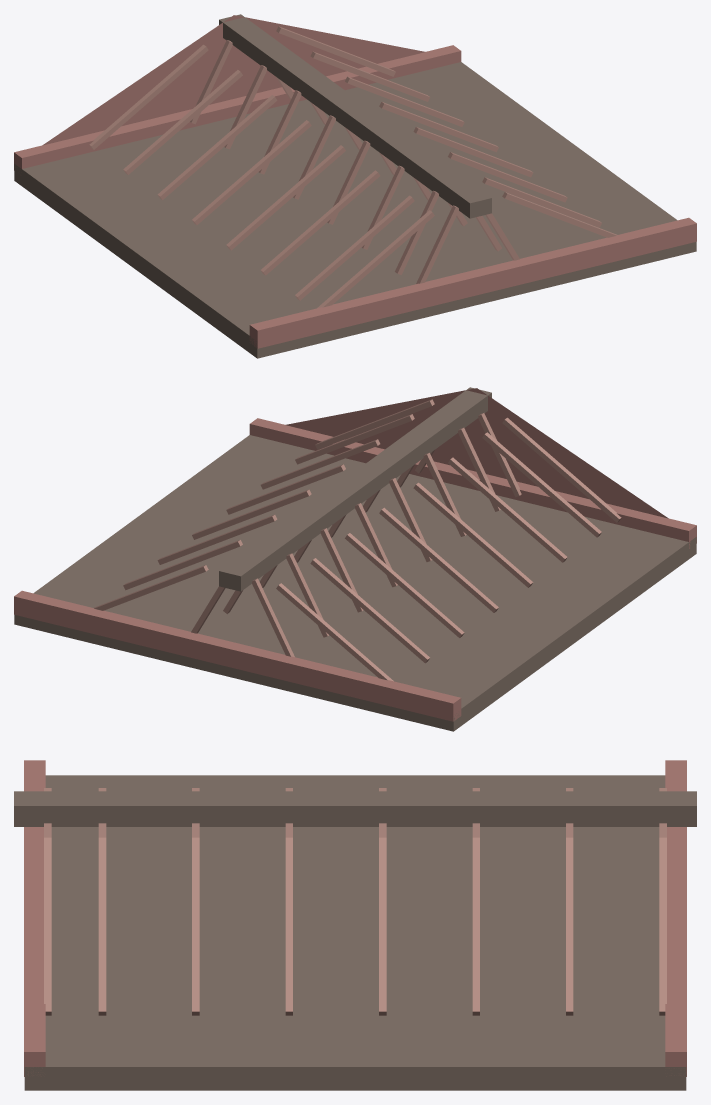
File: telhado_vermelho_4m.glb
3 views of the same model, one above another, from view 1: azimuth 30°, elevation 25°; view 2: azimuth 150°, elevation 25°; view 3: azimuth 270°, elevation 25° (orthographic). The views are drawn at different scales.
Parts seen in each view (by area): view 1: telhado_vermelho_4m_part_001, telhado_vermelho_4m_part_036, telhado_vermelho_4m_part_000, telhado_vermelho_4m_part_034, telhado_vermelho_4m_part_035, telhado_vermelho_4m_part_010, telhado_vermelho_4m_part_006, telhado_vermelho_4m_part_018, telhado_vermelho_4m_part_022, telhado_vermelho_4m_part_014, telhado_vermelho_4m_part_026, telhado_vermelho_4m_part_002 (+17 smaller); view 2: telhado_vermelho_4m_part_001, telhado_vermelho_4m_part_035, telhado_vermelho_4m_part_000, telhado_vermelho_4m_part_034, telhado_vermelho_4m_part_036, telhado_vermelho_4m_part_006, telhado_vermelho_4m_part_026, telhado_vermelho_4m_part_018, telhado_vermelho_4m_part_022, telhado_vermelho_4m_part_014, telhado_vermelho_4m_part_010, telhado_vermelho_4m_part_030 (+17 smaller); view 3: telhado_vermelho_4m_part_001, telhado_vermelho_4m_part_034, telhado_vermelho_4m_part_036, telhado_vermelho_4m_part_035, telhado_vermelho_4m_part_029, telhado_vermelho_4m_part_017, telhado_vermelho_4m_part_025, telhado_vermelho_4m_part_009, telhado_vermelho_4m_part_013, telhado_vermelho_4m_part_021, telhado_vermelho_4m_part_005, telhado_vermelho_4m_part_033.
Boxes of the visible parts, box(x1,y1,x2,y2) form: telhado_vermelho_4m_part_001: box(14, 62, 696, 358); telhado_vermelho_4m_part_036: box(249, 217, 696, 348); telhado_vermelho_4m_part_000: box(42, 15, 424, 145); telhado_vermelho_4m_part_034: box(219, 14, 491, 218); telhado_vermelho_4m_part_035: box(14, 45, 461, 175); telhado_vermelho_4m_part_010: box(157, 95, 277, 200); telhado_vermelho_4m_part_006: box(123, 70, 242, 174); telhado_vermelho_4m_part_018: box(226, 145, 345, 250); telhado_vermelho_4m_part_022: box(260, 170, 380, 275); telhado_vermelho_4m_part_014: box(192, 120, 311, 224); telhado_vermelho_4m_part_026: box(295, 195, 414, 300); telhado_vermelho_4m_part_002: box(89, 44, 208, 149); telhado_vermelho_4m_part_001: box(14, 435, 696, 731); telhado_vermelho_4m_part_035: box(14, 590, 461, 721); telhado_vermelho_4m_part_000: box(286, 388, 668, 518); telhado_vermelho_4m_part_034: box(219, 387, 491, 591); telhado_vermelho_4m_part_036: box(249, 418, 696, 548); telhado_vermelho_4m_part_006: box(310, 558, 429, 663); telhado_vermelho_4m_part_026: box(482, 432, 601, 537); telhado_vermelho_4m_part_018: box(413, 482, 533, 587); telhado_vermelho_4m_part_022: box(448, 457, 567, 562); telhado_vermelho_4m_part_014: box(379, 507, 498, 612); telhado_vermelho_4m_part_010: box(345, 533, 464, 637); telhado_vermelho_4m_part_030: box(502, 417, 621, 522); telhado_vermelho_4m_part_001: box(24, 775, 686, 1090); telhado_vermelho_4m_part_034: box(14, 791, 696, 826); telhado_vermelho_4m_part_036: box(24, 760, 45, 1076); telhado_vermelho_4m_part_035: box(665, 760, 686, 1076); telhado_vermelho_4m_part_029: box(98, 837, 106, 1015); telhado_vermelho_4m_part_017: box(379, 837, 386, 1015); telhado_vermelho_4m_part_025: box(192, 837, 199, 1015); telhado_vermelho_4m_part_009: box(566, 837, 573, 1015); telhado_vermelho_4m_part_013: box(472, 837, 479, 1015); telhado_vermelho_4m_part_021: box(285, 837, 292, 1015); telhado_vermelho_4m_part_005: box(659, 837, 666, 1015); telhado_vermelho_4m_part_033: box(44, 837, 51, 1015).
Size of the model in its own units: 4.8 by 1.17 by 4.75.
